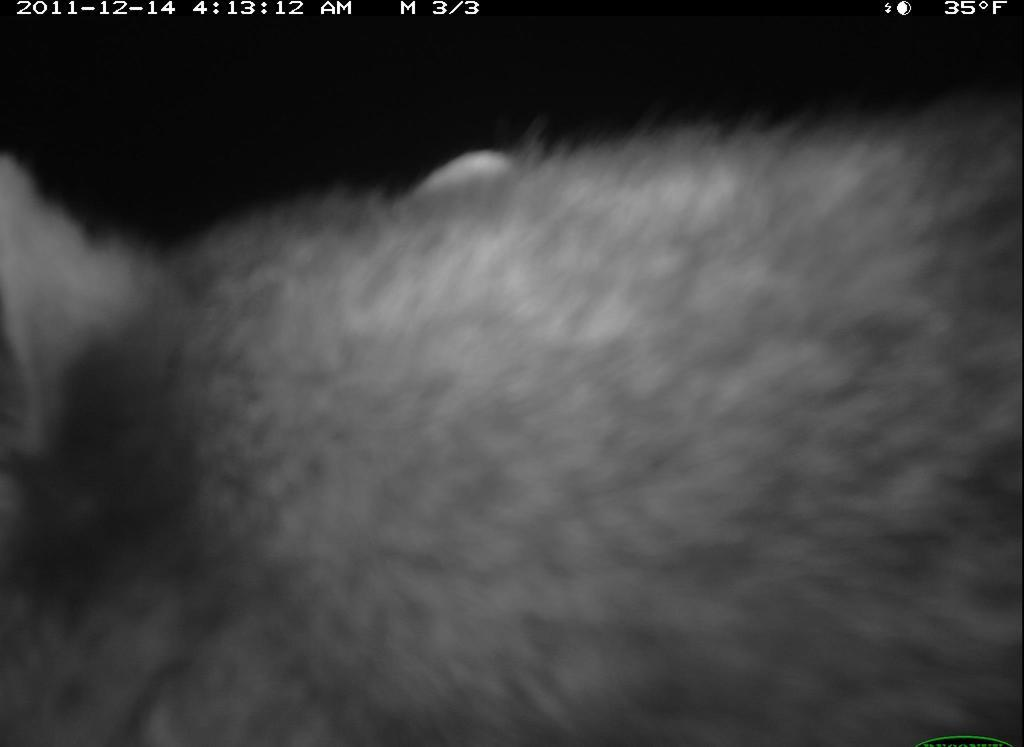raccoon: (3, 144, 1019, 747)
